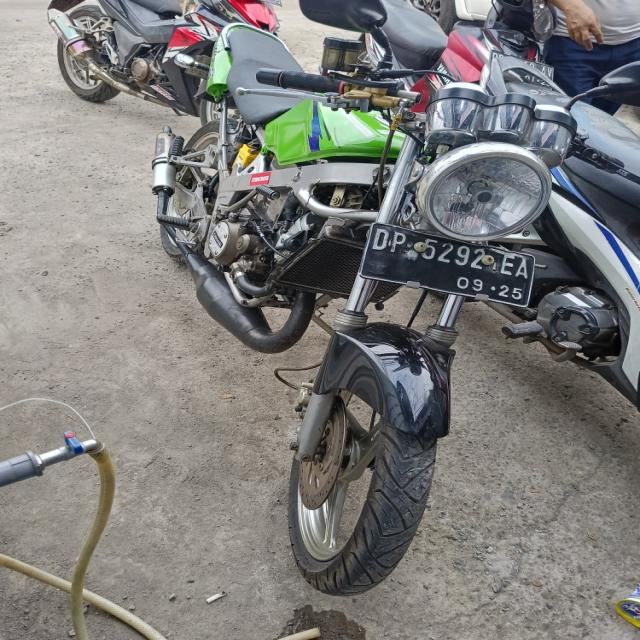plates: (361, 221, 546, 309)
